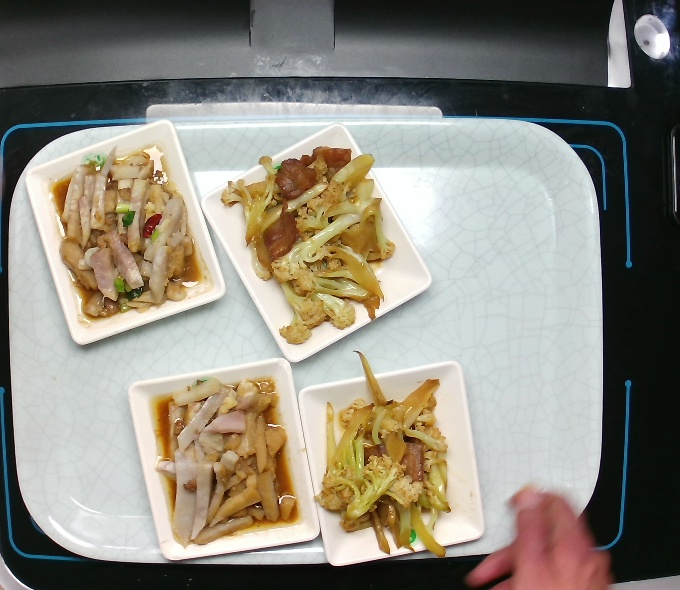wcq-QiuCaiChaoRou: (215, 138, 404, 348), (312, 344, 467, 562)
wcq-YuTou: (46, 140, 208, 326), (146, 376, 304, 557)
